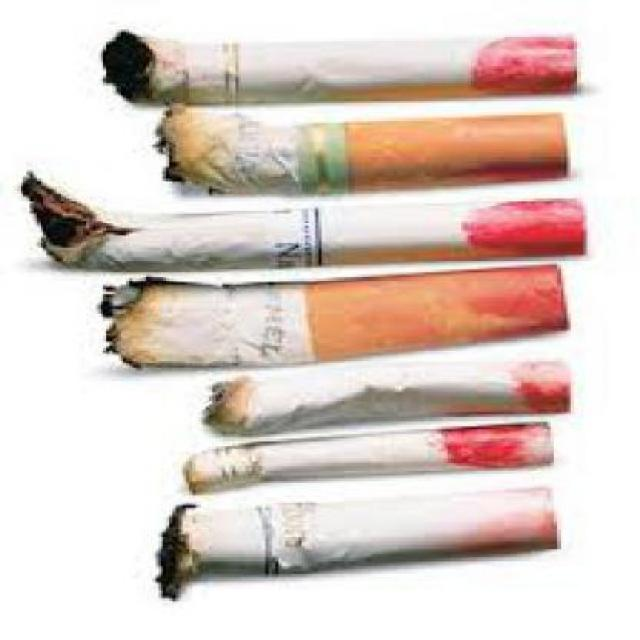cigarette: (0, 183, 608, 266), (96, 488, 564, 578), (72, 29, 617, 103), (83, 284, 600, 358), (133, 122, 627, 184), (172, 372, 626, 425), (109, 444, 603, 485)
